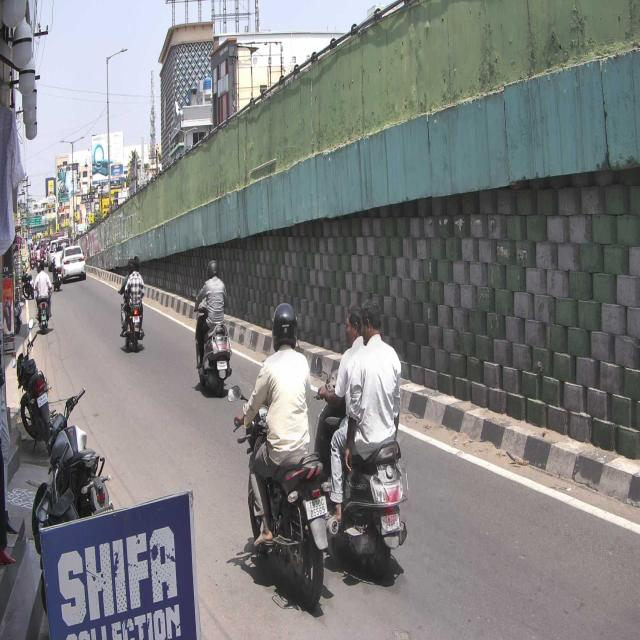double_rider: (335, 294, 410, 581)
single_rider: (231, 301, 333, 612)
